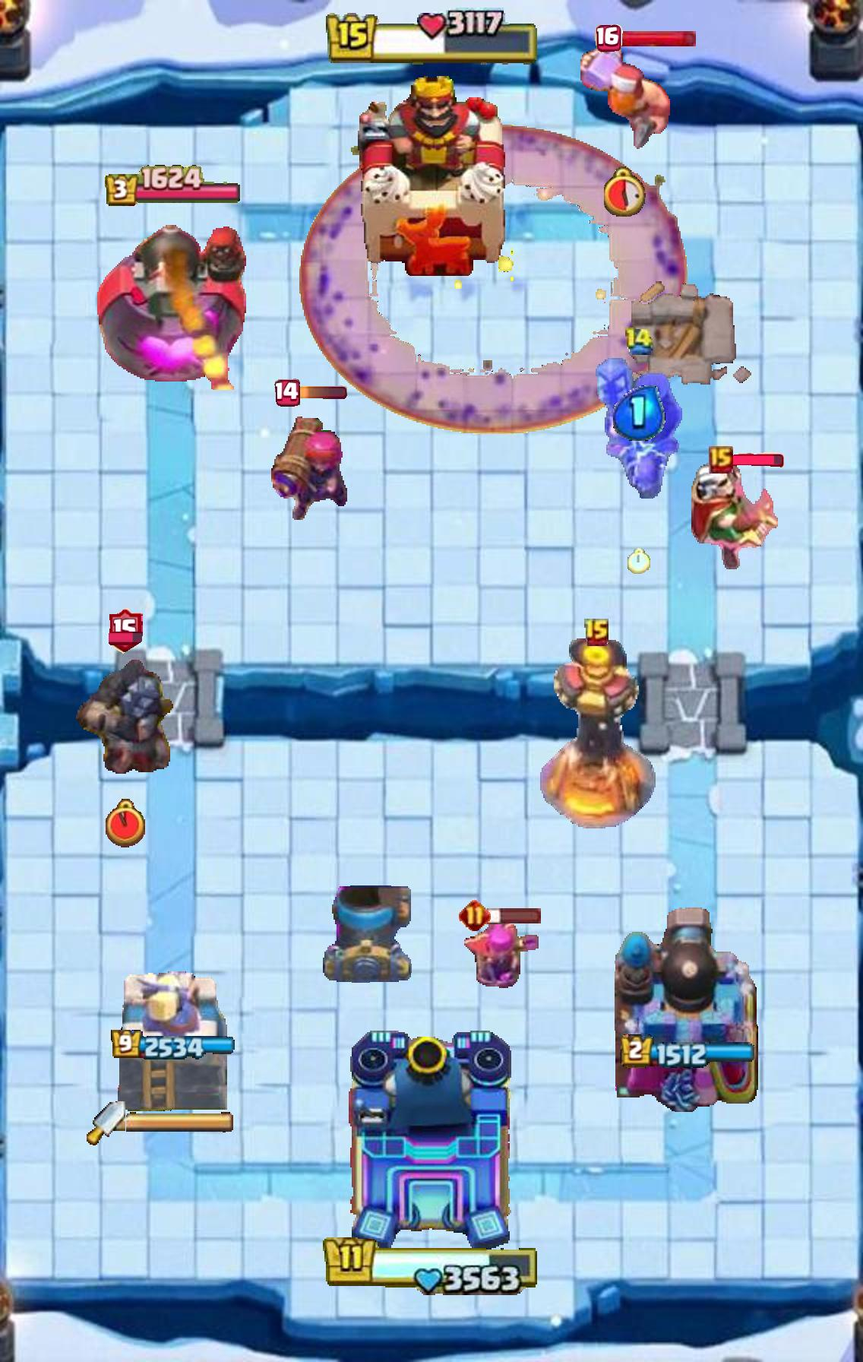elixir: (613, 386, 666, 441)
